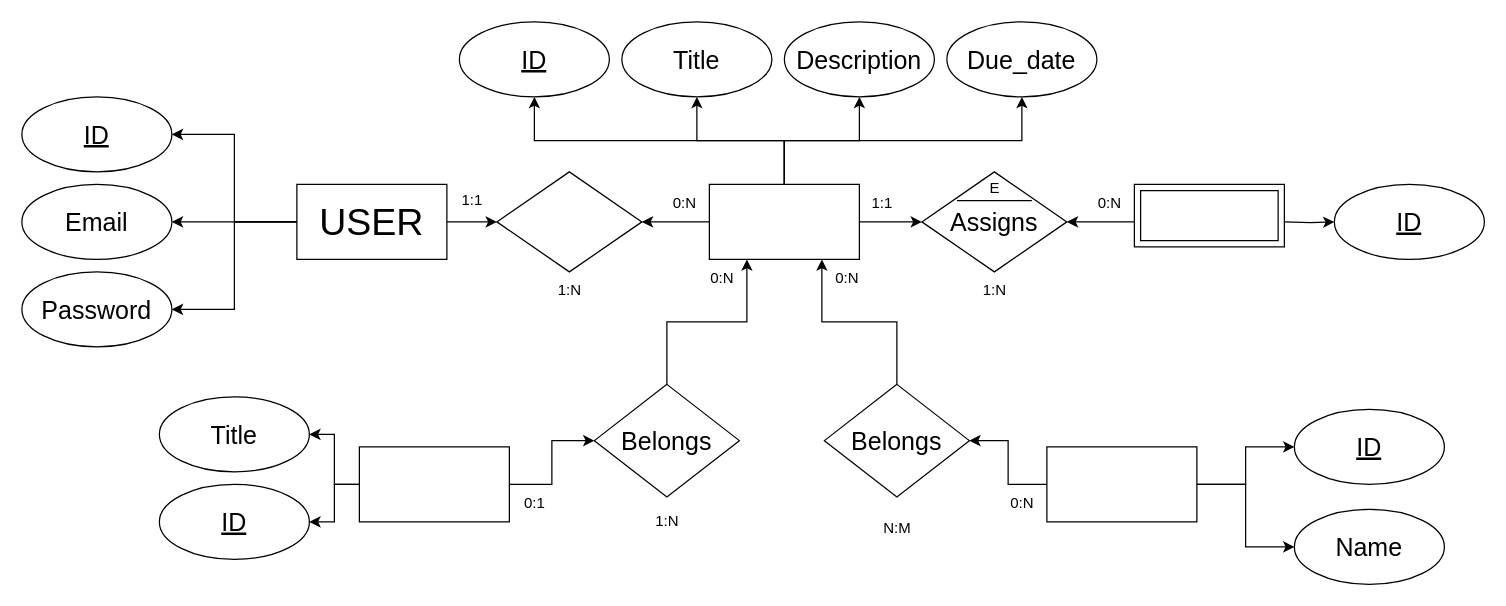
Some shapes in this 1506 by 606 pixel diagram are drawn without their labels. Here are the shapes that lost their labels. From the top down, the centre of each, then its label:
the point at 569,221: Creates
the point at 783,221: TASK
the point at 1208,215: SUBTASK
the point at 433,484: CATEGORY
the point at 1121,484: TAG
